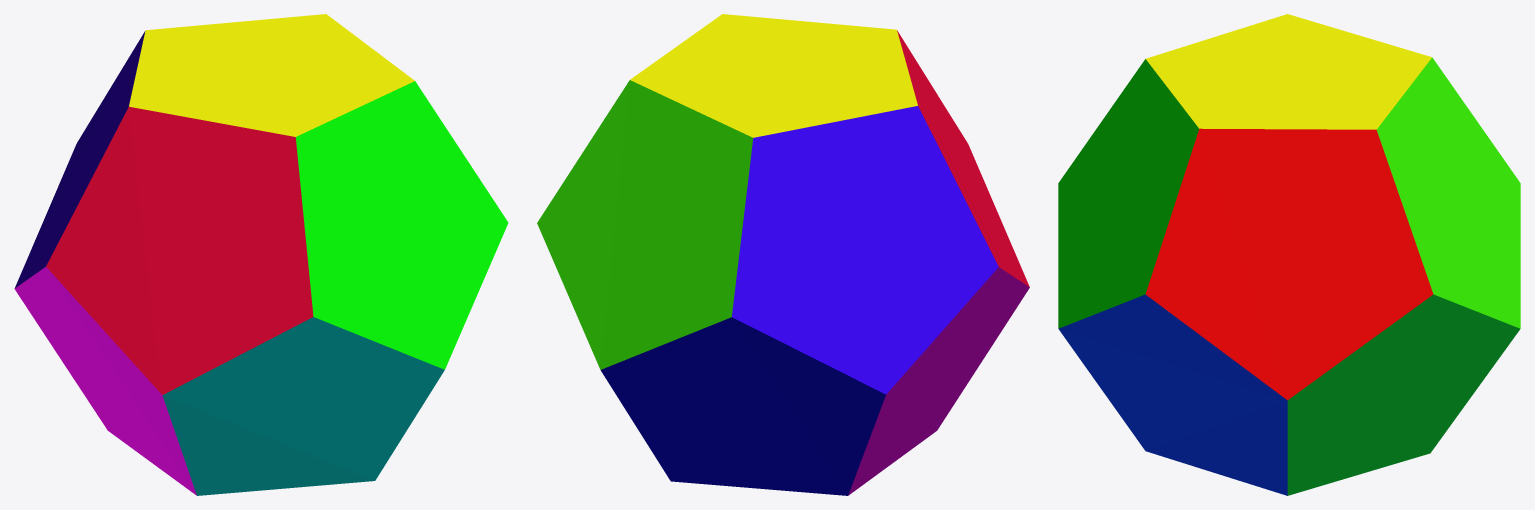
The model's file is dodeca.obj.
The picture shows the model from 3 angles, left to right: view 1: azimuth 30°, elevation 25°; view 2: azimuth 150°, elevation 25°; view 3: azimuth 270°, elevation 25°; orthographic projection. The views are drawn at different scales.
Parts seen in each view (by area): view 1: Dodeca; view 2: Dodeca; view 3: Dodeca.
Part boxes in pixels (x1,y1,x2,y2): Dodeca: (14, 14, 508, 495); Dodeca: (537, 14, 1029, 495); Dodeca: (1058, 14, 1520, 495).
Size of the model in its own units: 31.23 by 25.3 by 29.74.
